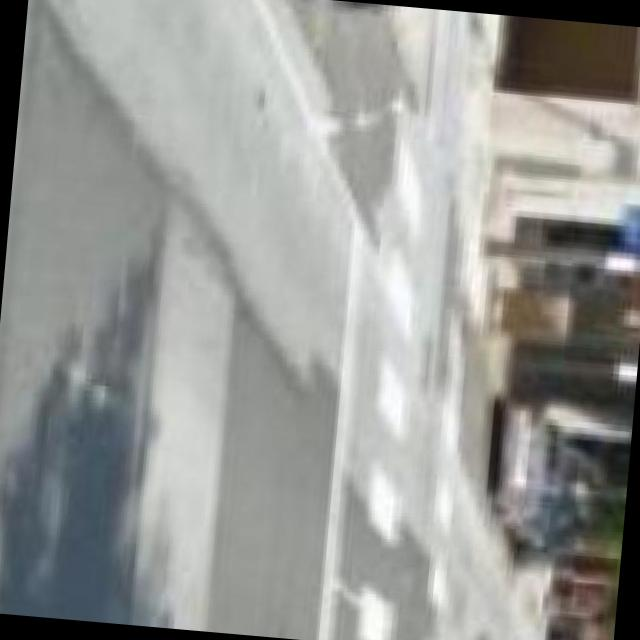zebra: (338, 109, 452, 640)
